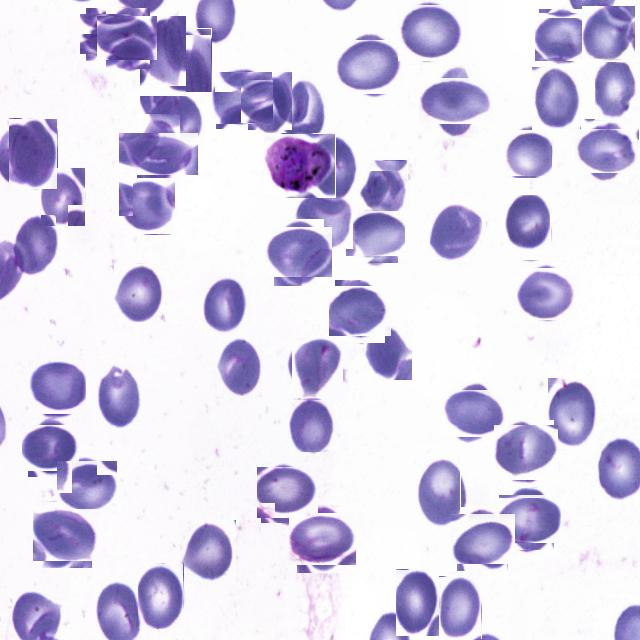difficult: (264, 133, 336, 198)
red blood cell: (340, 36, 402, 98), (128, 123, 189, 184), (140, 96, 205, 152), (293, 509, 353, 569), (426, 71, 486, 131), (496, 422, 556, 482), (400, 3, 460, 63), (180, 520, 236, 584), (9, 118, 58, 190), (289, 194, 353, 249), (548, 378, 597, 449), (36, 506, 95, 564), (270, 223, 328, 282), (454, 510, 512, 568), (58, 458, 115, 516), (519, 266, 577, 323), (417, 456, 461, 531), (161, 28, 212, 92), (430, 204, 486, 262), (446, 384, 502, 442), (140, 16, 186, 86), (332, 283, 388, 340), (119, 178, 175, 235), (213, 70, 270, 126), (503, 194, 551, 260), (310, 133, 357, 200), (29, 360, 85, 416), (259, 464, 315, 520), (290, 340, 346, 396), (199, 272, 248, 336), (502, 491, 558, 547), (532, 66, 581, 130), (138, 563, 184, 629), (114, 264, 165, 322), (396, 569, 440, 636), (580, 124, 634, 178), (98, 364, 142, 429), (582, 6, 635, 59), (364, 322, 412, 380), (349, 207, 401, 260), (102, 12, 154, 65), (217, 336, 262, 397), (439, 576, 482, 639), (24, 422, 76, 474), (537, 12, 589, 64), (41, 167, 86, 226), (595, 62, 640, 120), (244, 76, 296, 126), (360, 160, 408, 214), (273, 78, 317, 136), (14, 215, 56, 274), (289, 399, 335, 452), (506, 130, 552, 178), (82, 12, 130, 58)
